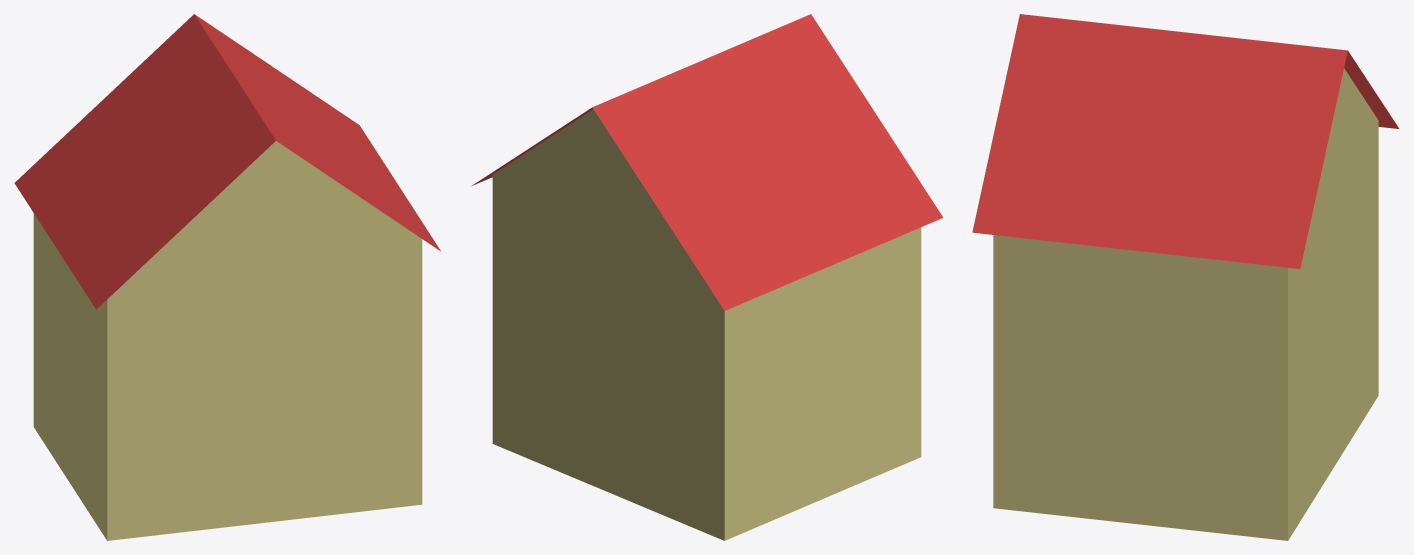
The picture shows the model from 3 angles, left to right: view 1: azimuth 30°, elevation 25°; view 2: azimuth 150°, elevation 25°; view 3: azimuth 270°, elevation 25°; orthographic projection. The views are drawn at different scales.
Size of the model in its own units: 13.55 by 12.48 by 13.63.
